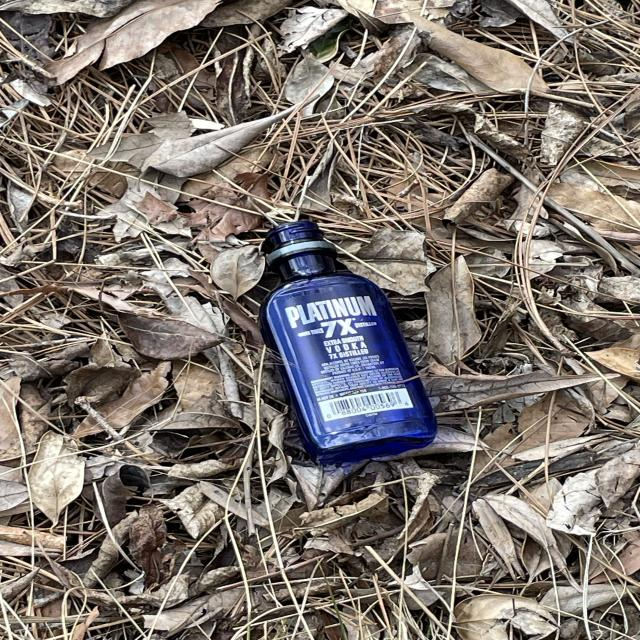plastic: (250, 218, 444, 463)
trash-zQNu: (248, 216, 448, 466)
